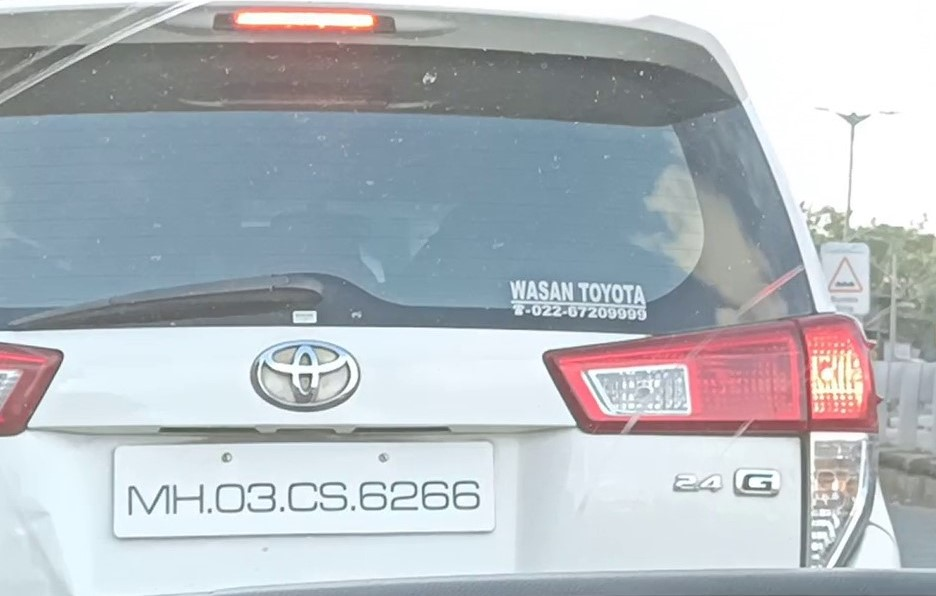MH03CS6266: (110, 437, 496, 537)
